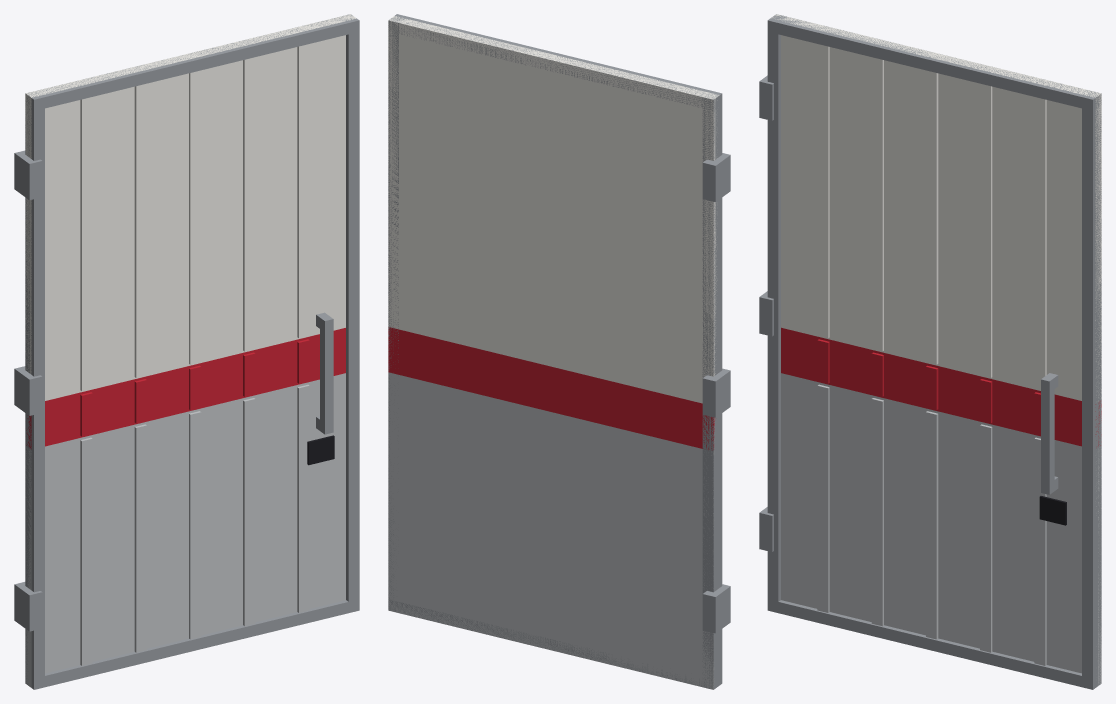
The model's file is Puerta_batiente_A.obj.
3 views of the same model, side by side, from view 1: azimuth 30°, elevation 25°; view 2: azimuth 150°, elevation 25°; view 3: azimuth 330°, elevation 25° (orthographic).
Visible parts, largest first — view 1: Puerta_batiente_A; view 2: Puerta_batiente_A; view 3: Puerta_batiente_A.
Boxes of the visible parts, bbox=[...] form: Puerta_batiente_A: bbox=[14, 14, 359, 689]; Puerta_batiente_A: bbox=[388, 14, 730, 689]; Puerta_batiente_A: bbox=[759, 14, 1101, 689].
Bounding box in the file's own units: 1.53 × 2.6 × 0.175.
Materials: 5 (5 with a texture image).
